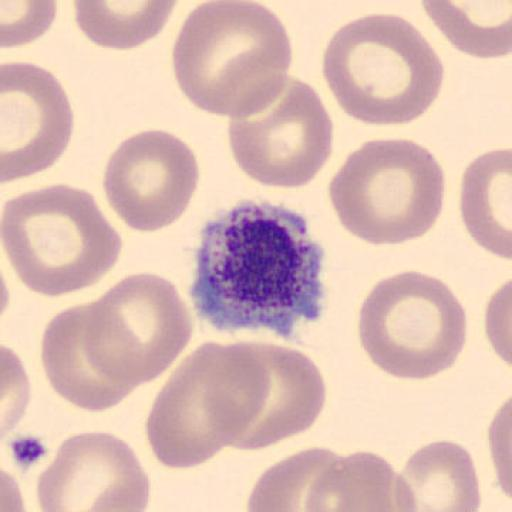Platelet: (188, 198, 328, 338)
RBC: (319, 12, 446, 129), (171, 0, 293, 118), (1, 182, 123, 299), (144, 343, 254, 472), (327, 136, 447, 248), (215, 339, 328, 451), (86, 270, 194, 387), (356, 268, 467, 381), (226, 75, 334, 190), (40, 298, 141, 412), (101, 128, 201, 234), (35, 430, 151, 512), (2, 60, 75, 183), (181, 42, 293, 119), (302, 448, 416, 512), (244, 444, 348, 512), (398, 437, 482, 512), (458, 147, 512, 261), (211, 47, 291, 119), (419, 0, 512, 60), (73, 0, 179, 51), (303, 451, 358, 512), (0, 341, 31, 441), (0, 0, 60, 48), (483, 274, 512, 372), (488, 393, 512, 511), (82, 482, 156, 512), (0, 464, 27, 512), (0, 238, 13, 322)
